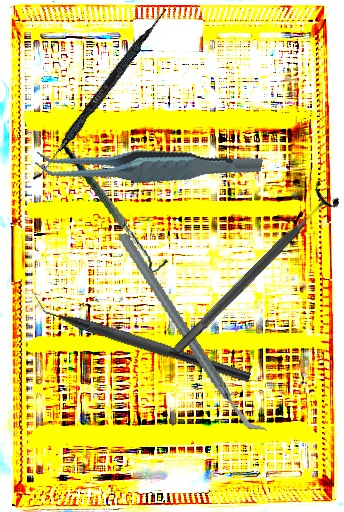Chopper: (115, 215, 268, 451), (25, 289, 256, 383)
Fixation Ring: (162, 177, 344, 365)
Hook Surgical: (62, 130, 170, 285)
Spatula Surgical: (32, 4, 169, 186)
Tissue Forceps: (32, 108, 264, 222)
